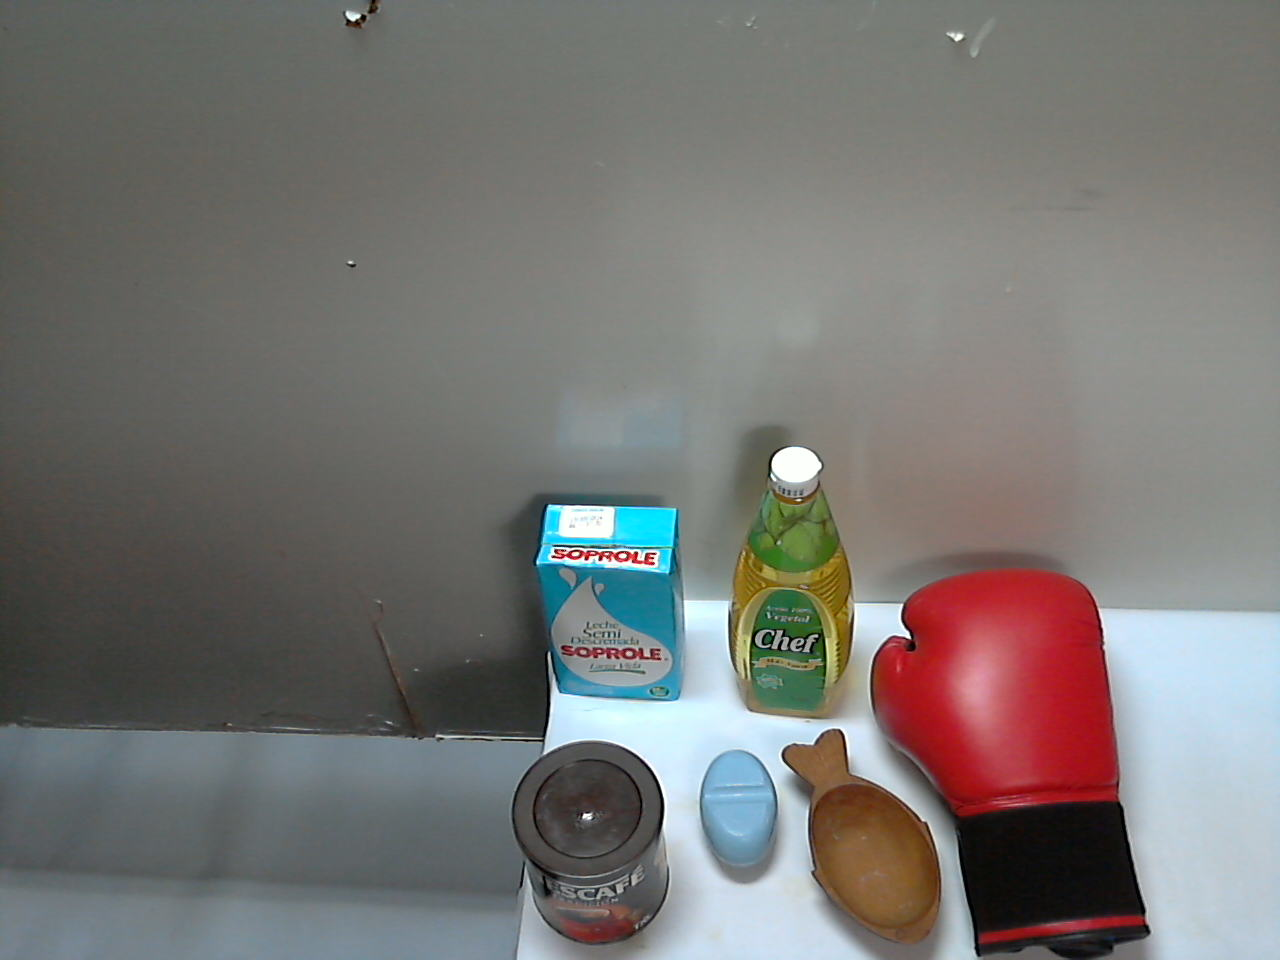cloro: (711, 495, 877, 745)
harina: (548, 528, 719, 751)
jabon: (830, 709, 964, 819)
jugoind: (463, 645, 561, 797)
platano: (874, 653, 1101, 891)
uslero: (455, 786, 994, 926)
